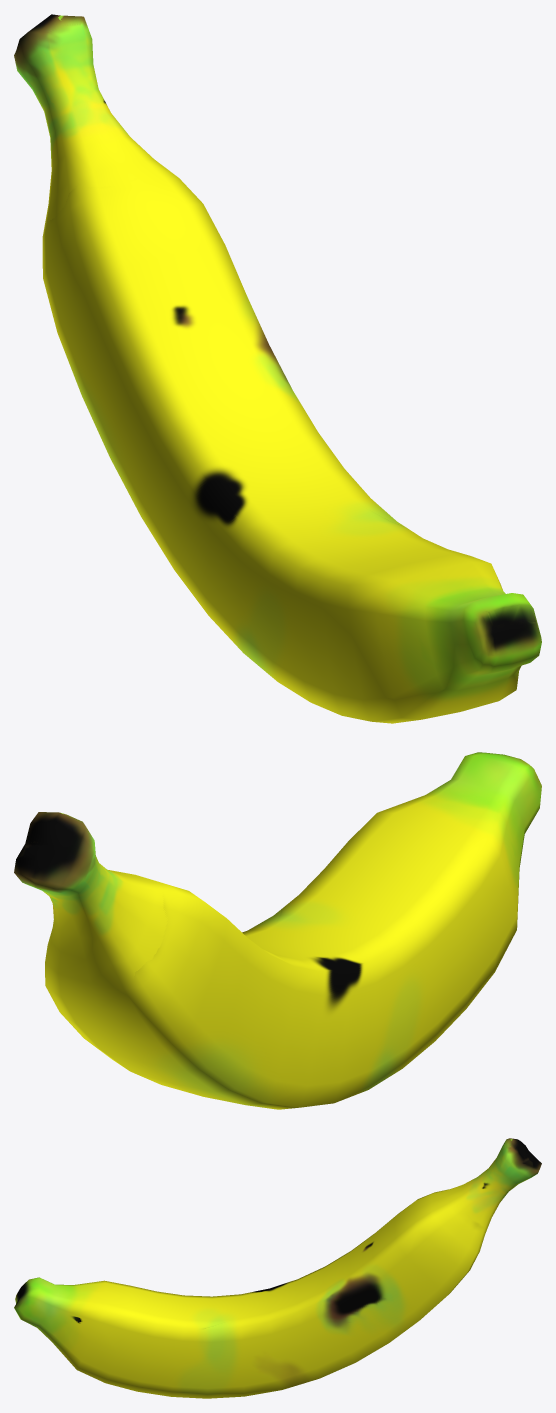
File: Banana.fbx
3 renders of one model, top to bottom at view 1: azimuth 30°, elevation 25°; view 2: azimuth 150°, elevation 25°; view 3: azimuth 270°, elevation 25°, orthographic. The views are drawn at different scales.
Parts seen in each view (by area): view 1: Cube; view 2: Cube; view 3: Cube.
Boxes of the visible parts, x1,y1,x2,y2 form: Cube: (14,14,541,723); Cube: (14,752,541,1109); Cube: (14,1138,541,1398).
Bounding box in the file's own units: 48.42 × 154 × 298.
